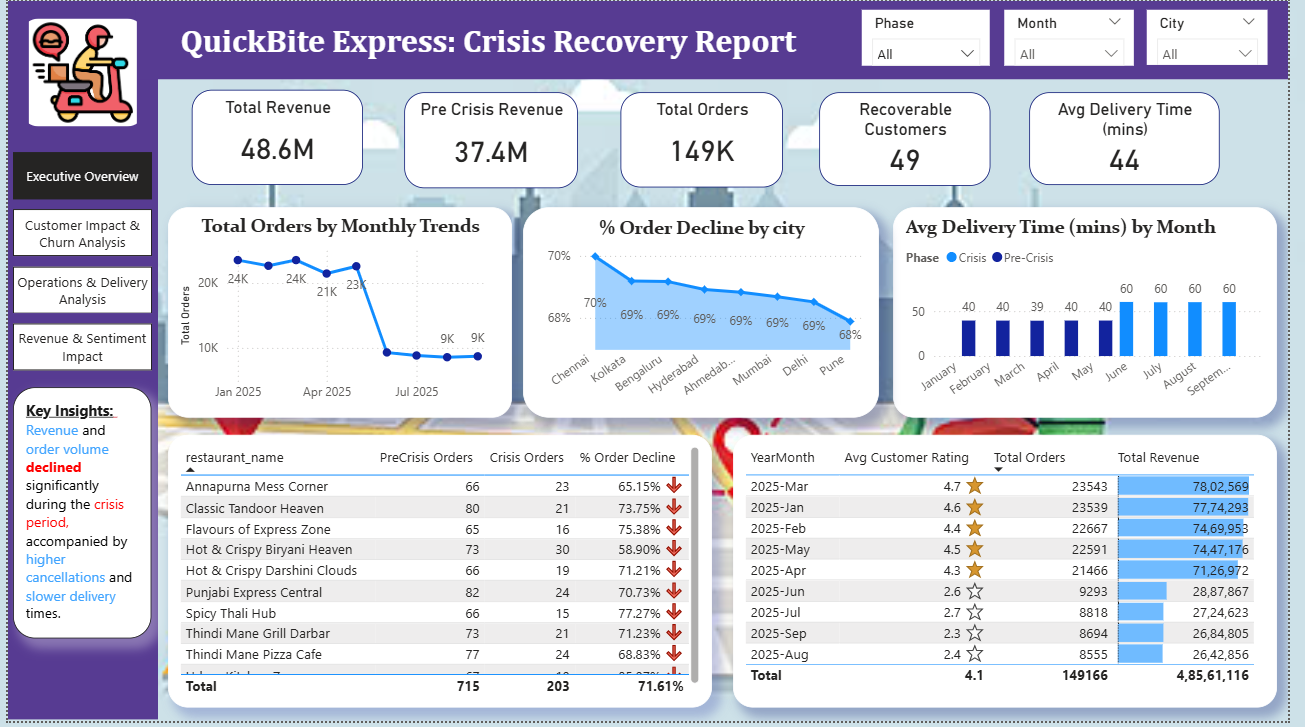

The dashboard page shown, as its layout file describes it:
{"tool":"powerbi","page":{"name":"Executive Overview","canvas":[1280,720],"ordinal":0},"visuals":[{"type":"shape","box":[0,0,150,718.8],"z":0},{"type":"textbox","box":[5,386.2,138.8,251.2],"z":1000},{"type":"shape","box":[127.2,0,1153.1,78.3],"z":2000},{"type":"card","title":"Total Orders","fields":{"Values":["dim_customer.Total Orders"]},"box":[612.5,91.2,162.5,95],"z":3000},{"type":"textbox","box":[167.5,15.9,654.2,55],"z":4000},{"type":"card","title":"Total Revenue","fields":{"Values":["dim_customer.Total Revenue"]},"box":[183.8,88.8,171.2,95],"z":5000},{"type":"card","title":"Pre Crisis Revenue","fields":{"Values":["fact_orders.Pre Crisis Revenue"]},"box":[396.2,91.2,173.8,96.2],"z":6000},{"type":"card","title":"Recoverable Customers","fields":{"Values":["Measure.Recoverable Customers"]},"box":[811.2,91.2,171.2,93.8],"z":7000},{"type":"lineChart","title":"Total Orders by Monthly Trends","fields":{"Y":["dim_customer.Total Orders"],"Category":["fact_orders.order_timestamp.Variation.Date Hierarchy.Year","fact_orders.order_timestamp.Variation.Date Hierarchy.Month"]},"box":[160,206.2,343.8,210],"z":8000},{"type":"card","title":"Avg Delivery Time (mins)","fields":{"Values":["fact_delivery_performance.Avg Delivery Time (mins)"]},"box":[1021.2,91.2,190,92.5],"z":9000},{"type":"clusteredColumnChart","title":"Avg Delivery Time (mins) by Month","fields":{"Category":["dim_date.Month"],"Y":["fact_delivery_performance.Avg Delivery Time (mins)"],"Series":["dim_date.Phase"]},"box":[885,206.2,383.8,210],"z":10000},{"type":"image","box":[11,17.1,127.2,107.6],"z":11000},{"type":"stackedAreaChart","fields":{"Category":["dim_restaurant.city"],"Y":["fact_orders.% Order Decline"]},"box":[515,206.2,356.2,210],"z":12000},{"type":"slicer","fields":{"Values":["dim_date.Phase"]},"box":[853.5,8.6,128.4,56.3],"z":13000},{"type":"tableEx","fields":{"Values":["dim_date.YearMonth","dim_customer.Avg Customer Rating","dim_customer.Total Orders","dim_customer.Total Revenue"]},"box":[725,433.8,543.8,272.5],"z":14000},{"type":"tableEx","fields":{"Values":["dim_restaurant.restaurant_name","fact_orders.PreCrisis Orders","fact_orders.Crisis Orders","fact_orders.% Decline in Orders"]},"box":[160,433.8,543.8,272.5],"z":15000},{"type":"slicer","fields":{"Values":["dim_restaurant.city"]},"box":[1138.5,8.6,121.1,55],"z":16000},{"type":"slicer","fields":{"Values":["dim_date.Month"]},"box":[996.6,8.6,129.6,56.3],"z":17000},{"type":"pageNavigator","box":[4.9,151.6,139.4,221.3],"z":18000}]}

Visuals, with their boxes in screenshot pixels (x1, y1, x2, y2):
shape: [3, 0, 153, 716]
textbox: [8, 385, 147, 635]
shape: [130, 0, 1279, 78]
"Total Orders" card: [614, 91, 775, 185]
textbox: [170, 16, 822, 71]
"Total Revenue" card: [186, 88, 357, 183]
"Pre Crisis Revenue" card: [398, 91, 571, 187]
"Recoverable Customers" card: [811, 91, 982, 184]
"Total Orders by Monthly Trends" lineChart: [163, 205, 505, 415]
"Avg Delivery Time (mins)" card: [1021, 91, 1210, 183]
"Avg Delivery Time (mins) by Month" clusteredColumnChart: [885, 205, 1267, 415]
image: [14, 17, 141, 124]
stackedAreaChart - dim_restaurant.city x fact_orders.% Order Decline: [516, 205, 871, 415]
slicer - dim_date.Phase: [854, 9, 982, 65]
tableEx - dim_date.YearMonth x dim_customer.Avg Customer Rating: [726, 432, 1267, 704]
tableEx - dim_restaurant.restaurant_name x fact_orders.PreCrisis Orders: [163, 432, 704, 704]
slicer - dim_restaurant.city: [1137, 9, 1258, 63]
slicer - dim_date.Month: [996, 9, 1125, 65]
pageNavigator: [8, 151, 147, 371]
